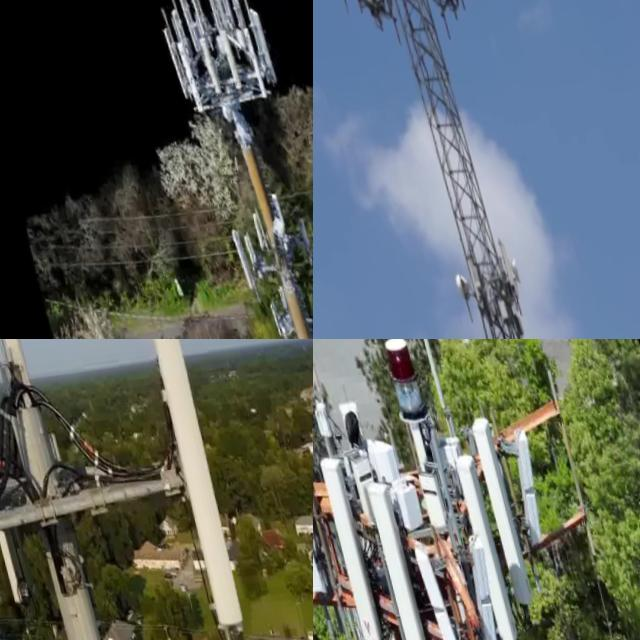GSM Antenna: (122, 339, 254, 625), (461, 407, 533, 604), (448, 446, 520, 640), (355, 470, 433, 640), (313, 448, 382, 640), (0, 339, 31, 601), (402, 531, 460, 640), (219, 220, 257, 296), (212, 19, 245, 101), (234, 18, 265, 102), (0, 339, 35, 400), (173, 41, 203, 107), (195, 34, 220, 98), (265, 188, 289, 243), (492, 233, 513, 288), (260, 292, 282, 339), (291, 214, 311, 260), (245, 206, 264, 246)
Microwave Antenna: (442, 258, 468, 305), (502, 252, 521, 285)
